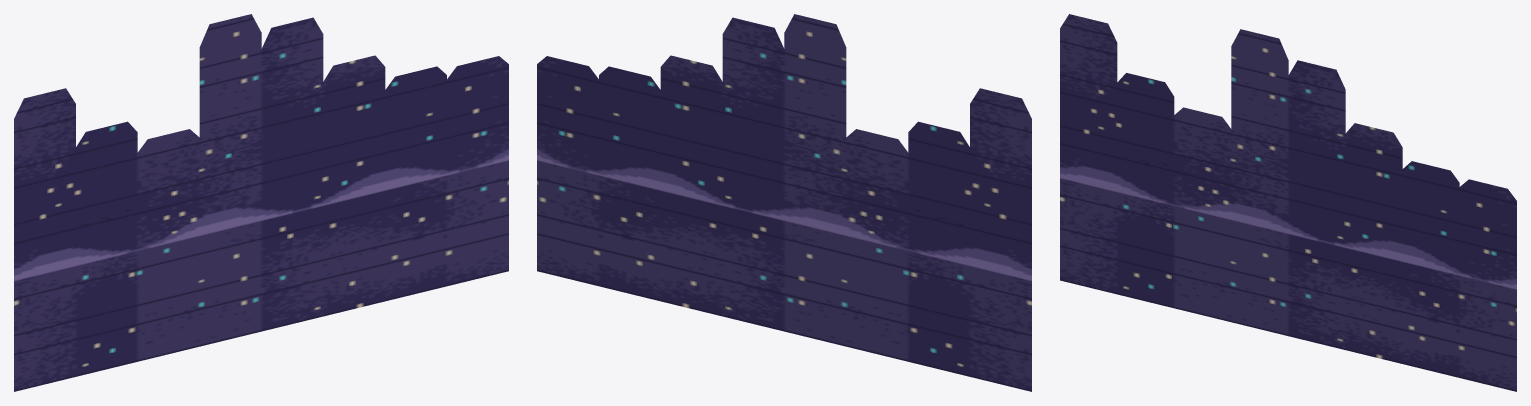
Rendered from cysky.far.glb.
3 views of the same model, side by side, from view 1: azimuth 30°, elevation 25°; view 2: azimuth 150°, elevation 25°; view 3: azimuth 330°, elevation 25° (orthographic). The views are drawn at different scales.
Parts seen in each view (by area): view 1: kit_card_skyline; view 2: kit_card_skyline; view 3: kit_card_skyline.
Boxes of the visible parts, left/top/right/bottom form: kit_card_skyline: left=14, top=14, right=508, bottom=391; kit_card_skyline: left=537, top=14, right=1031, bottom=391; kit_card_skyline: left=1060, top=14, right=1516, bottom=391.
Size of the model in its own units: 56 by 34.6 by 0.
1 material, 1 textured.
